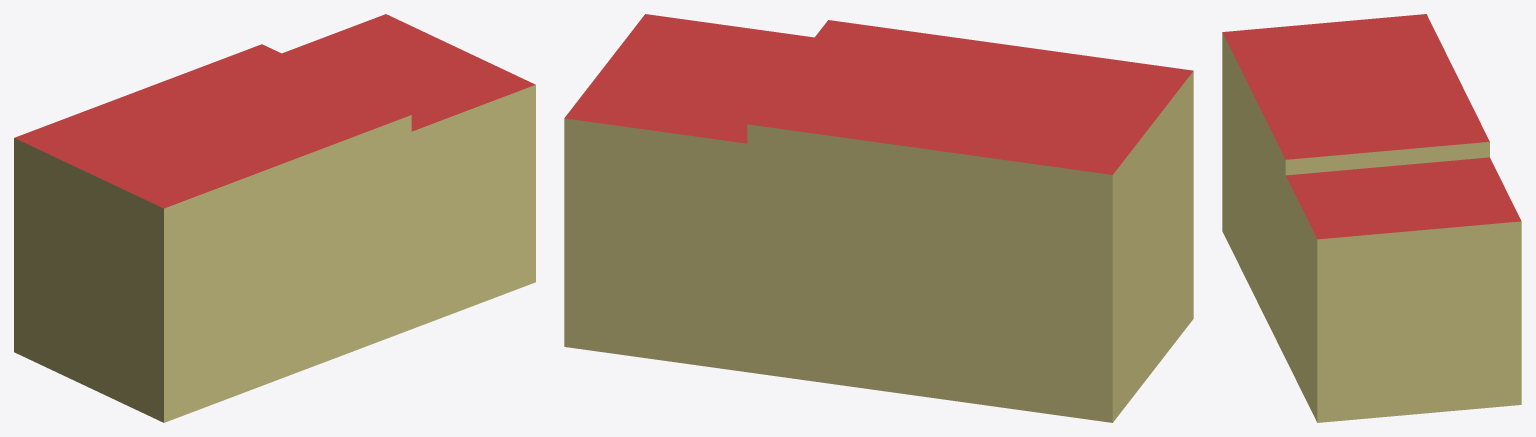
The picture shows the model from 3 angles, left to right: view 1: azimuth 30°, elevation 25°; view 2: azimuth 150°, elevation 25°; view 3: azimuth 270°, elevation 25°; orthographic projection. The views are drawn at different scales.
Bounding box in the file's own units: 12.76 × 7.69 × 5.65.
